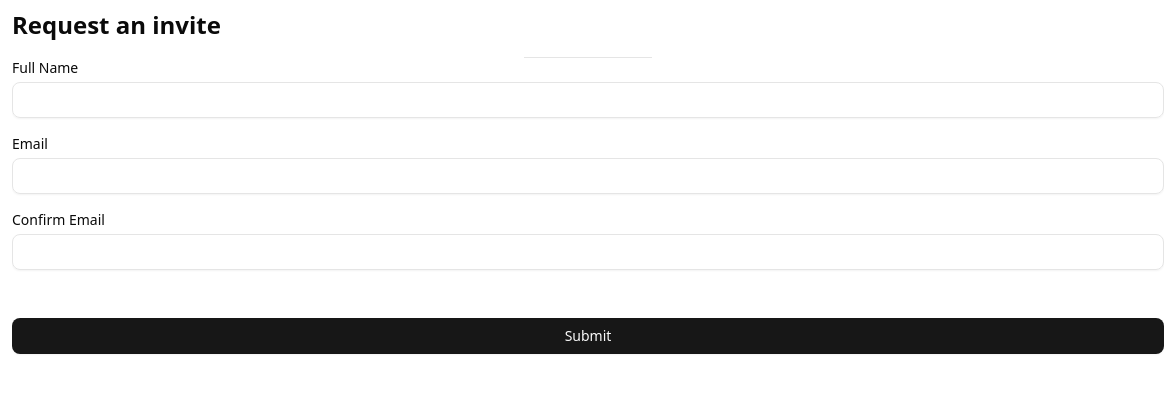
Scenario: EnterDetailsForm › displays default error message when api returns an unexpected error json format
// Fill form with data that will trigger API error
In the field labelled "Full Name": x=588, y=100 [12,82,1164,118], type "Jane Doe"
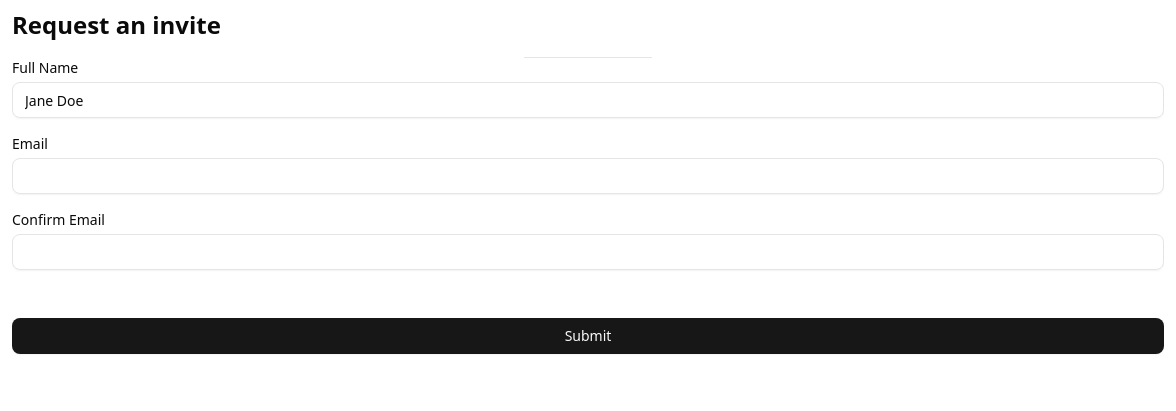
In the field labelled "Email": x=588, y=176 [12,158,1164,194], type "unexpected-json@error.com"
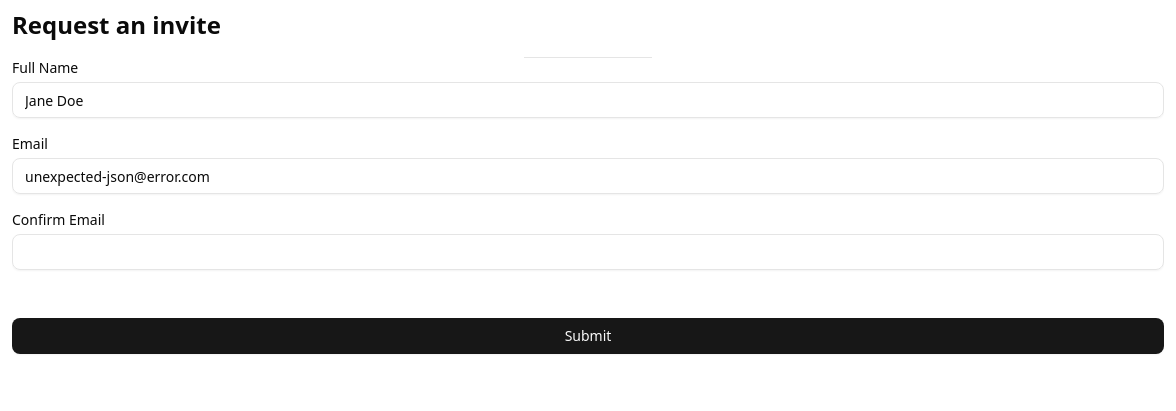
In the field labelled "Confirm Email": x=588, y=252 [12,234,1164,270], type "unexpected-json@error.com"
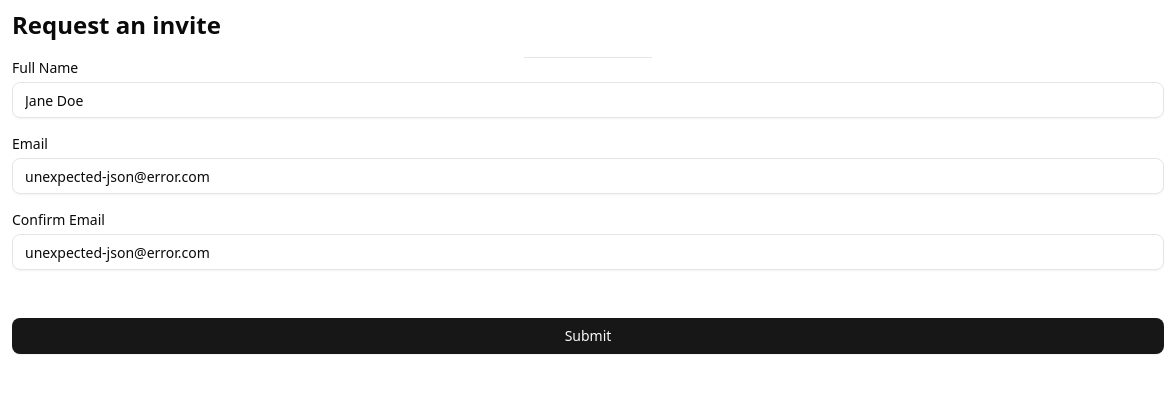
Click the button "Submit": x=588, y=336 [12,318,1164,354]
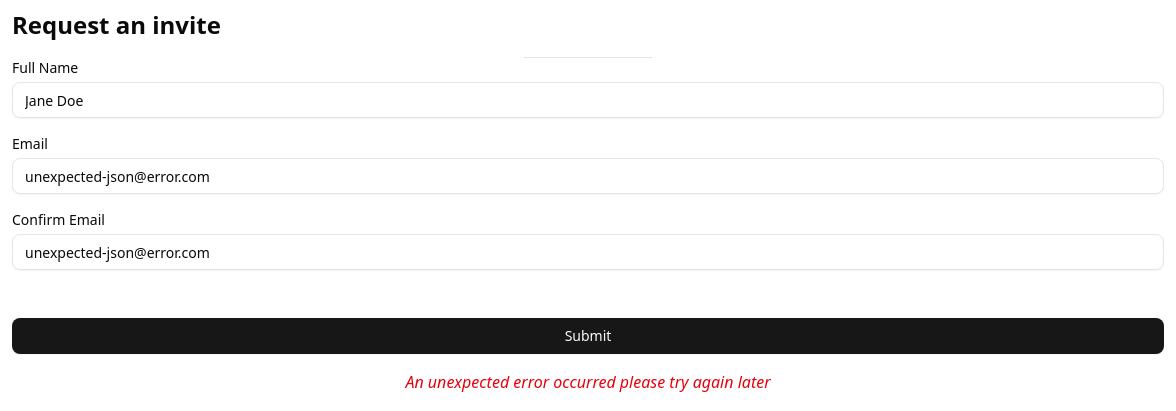
Expected: the text "An unexpected error occurred please try again later" is shown, [405,370,770,394]
